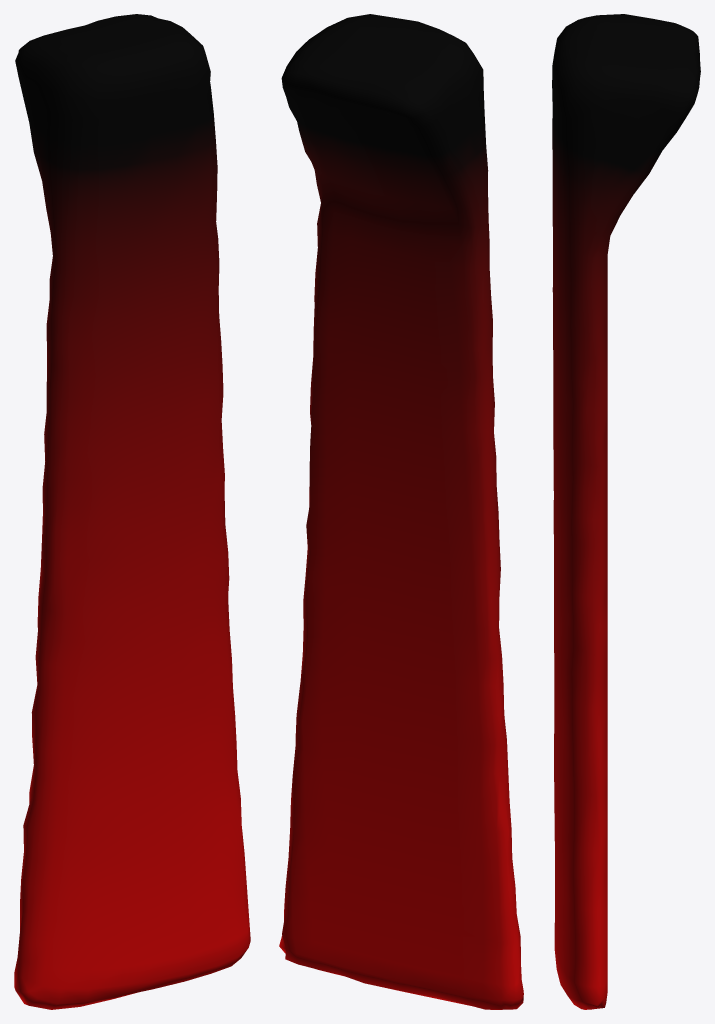
The model's file is SM_Gen_Env_Waterfall_02.glb.
3 views of the same model, side by side, from view 1: azimuth 30°, elevation 25°; view 2: azimuth 150°, elevation 25°; view 3: azimuth 270°, elevation 25° (orthographic). The views are drawn at different scales.
Visible parts, largest first — view 1: SM_Gen_Env_Waterfall_022; view 2: SM_Gen_Env_Waterfall_022; view 3: SM_Gen_Env_Waterfall_022.
Part boxes in pixels (x1,y1,x2,y2): SM_Gen_Env_Waterfall_022: (14,14,250,1009); SM_Gen_Env_Waterfall_022: (279,14,523,1009); SM_Gen_Env_Waterfall_022: (552,14,700,1009).
Size of the model in its own units: 8.5 by 32.43 by 4.72.
